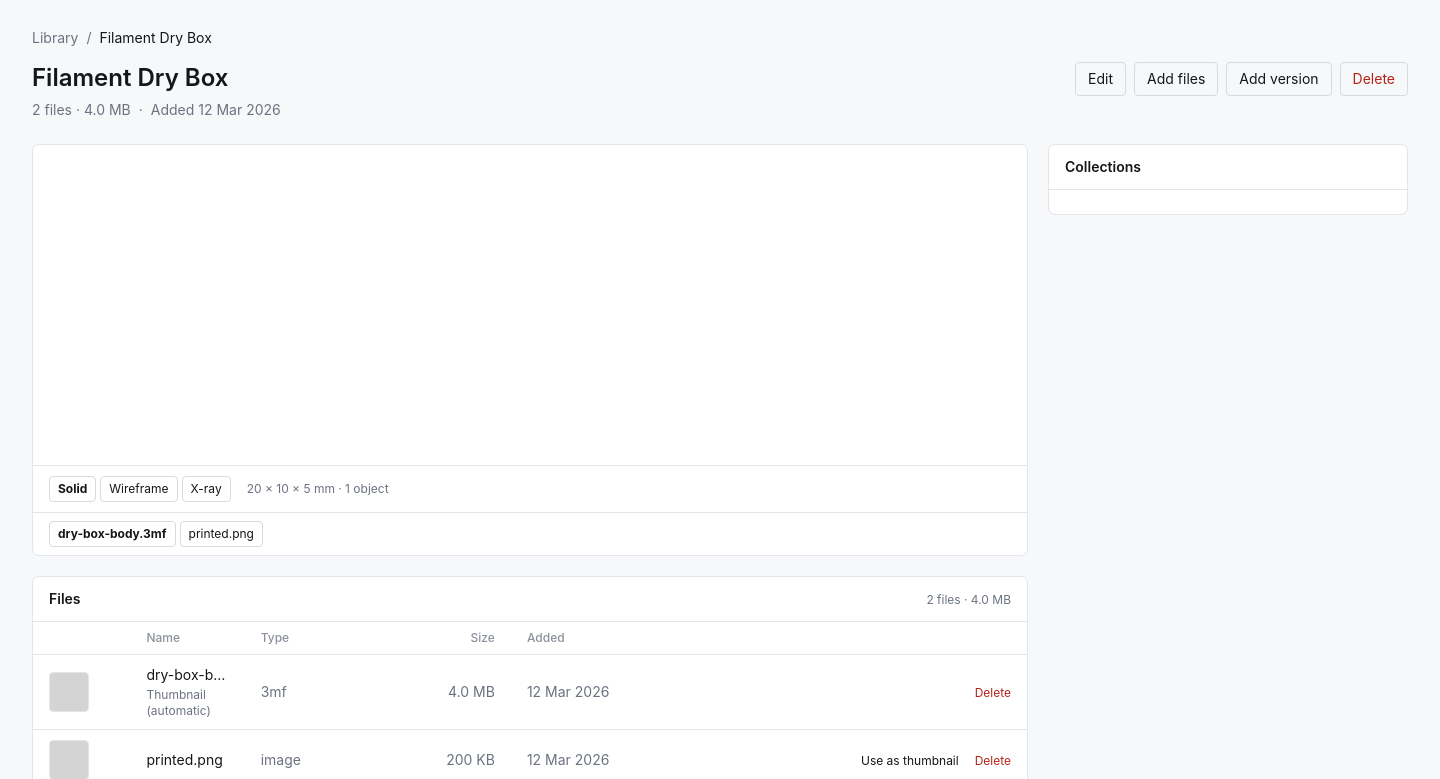
Test: model detail thumbnails › reports a refused pin and keeps the model on screen
This screenshot has width=1440, height=779.
Click the button "Use as thumbnail". click: (910, 761)
box: [861,753,959,769]
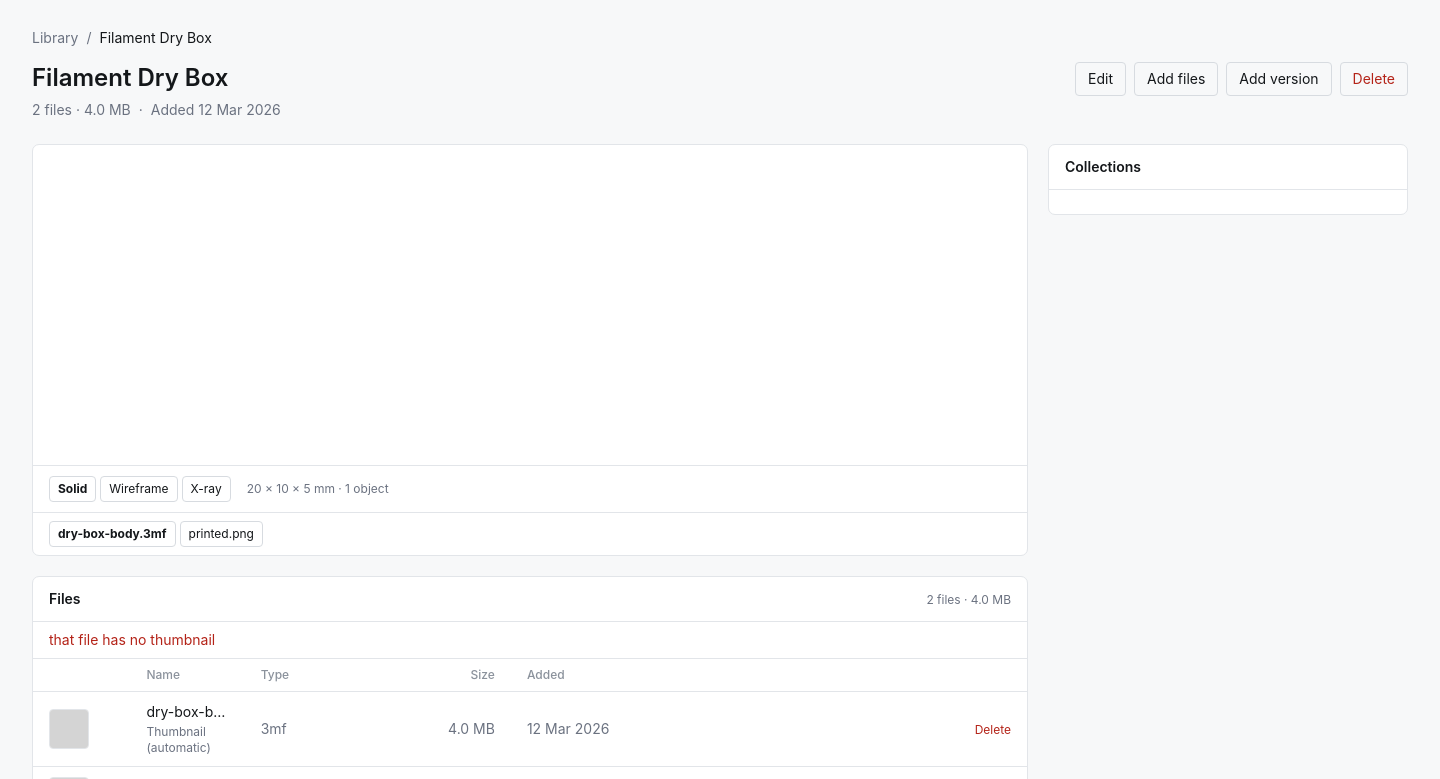
Expected: the link "dry-box-body.3mf" is shown, [146,702,229,722]
Result: the message reads "that file has no thumbnail" at [49,631,215,648]
